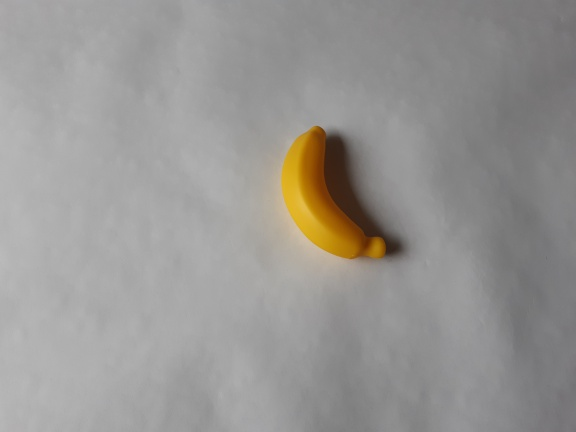banana: (272, 119, 396, 267)
